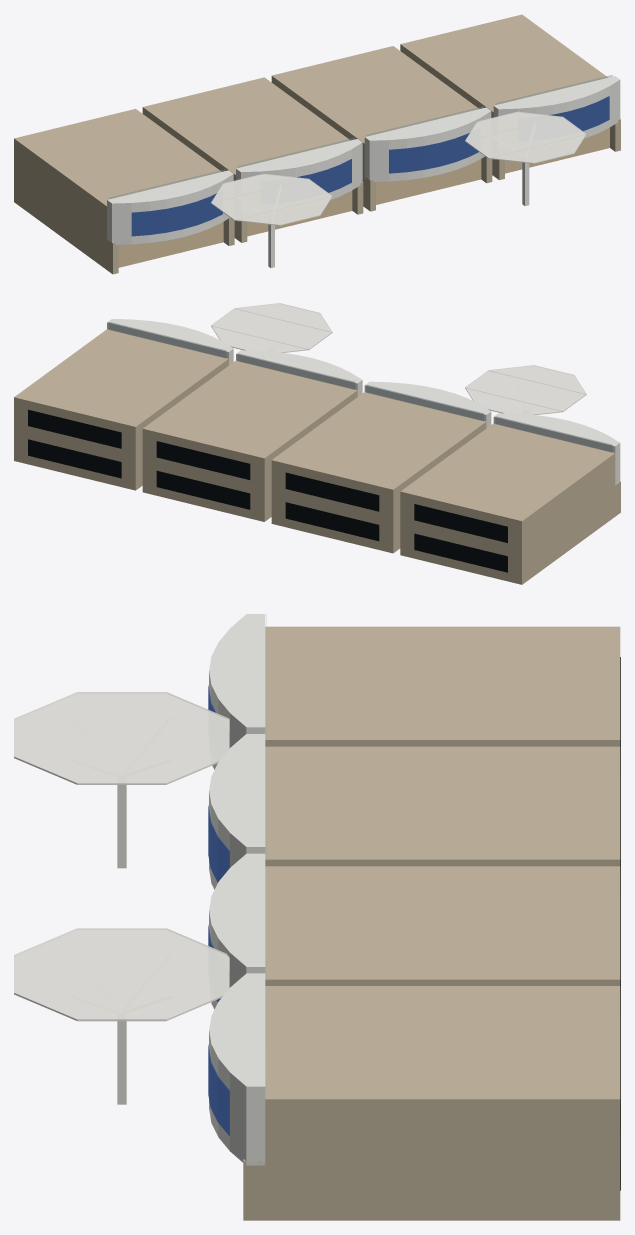
File: lus_villas.glb
3 views of the same model, one above another, from view 1: azimuth 30°, elevation 25°; view 2: azimuth 150°, elevation 25°; view 3: azimuth 270°, elevation 25° (orthographic). The views are drawn at different scales.
Visible parts, largest first — view 1: lusail-team-villas; view 2: lusail-team-villas; view 3: lusail-team-villas.
Part boxes in pixels (bbox=[...]): lusail-team-villas: bbox=[14, 14, 620, 274]; lusail-team-villas: bbox=[14, 303, 620, 584]; lusail-team-villas: bbox=[14, 614, 620, 1220].
Bounding box in the file's own units: 71.8 × 9.7 × 38.98.
